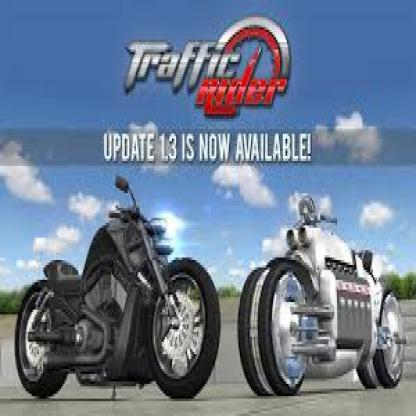bike: (14, 178, 227, 403), (240, 202, 406, 393)
